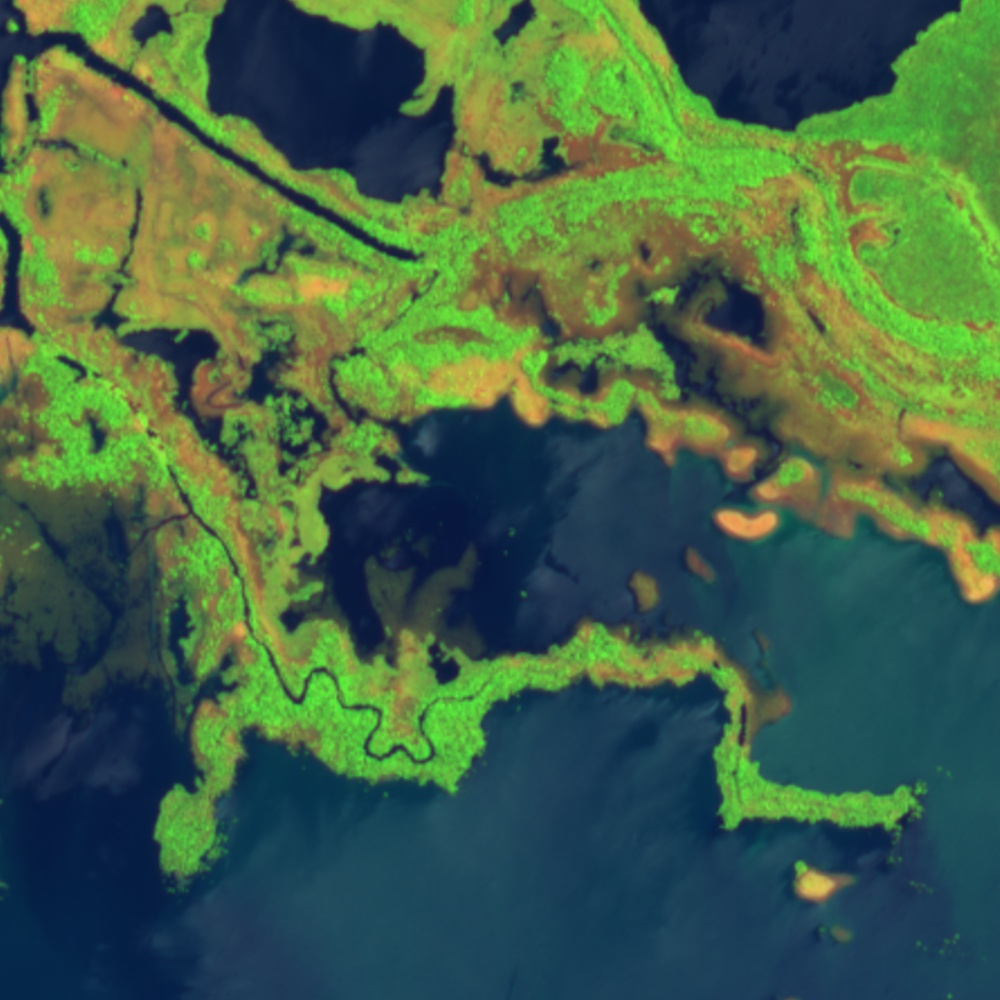legal: (10, 53, 425, 442), (449, 353, 1000, 606), (171, 442, 408, 648), (544, 627, 784, 752), (446, 80, 655, 216), (4, 455, 168, 530)
